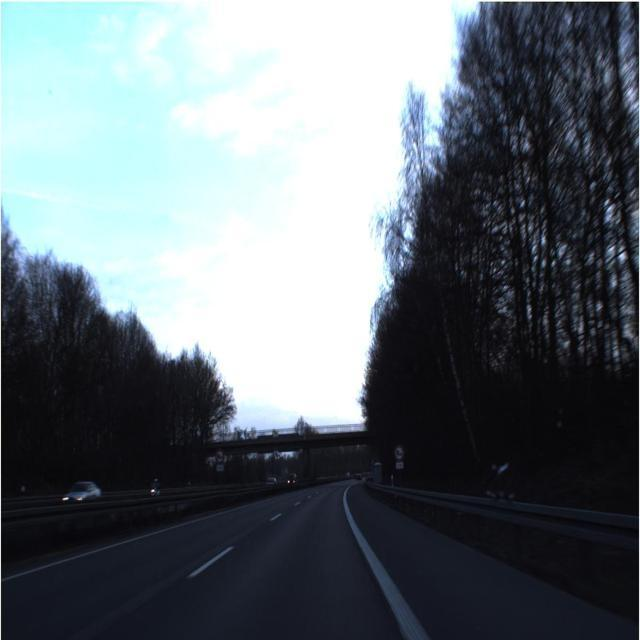forb_overtake_trucks: (394, 444, 405, 463), (215, 447, 225, 465)
